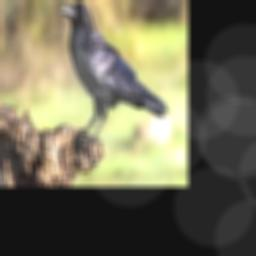Crow: (60, 0, 168, 150)
